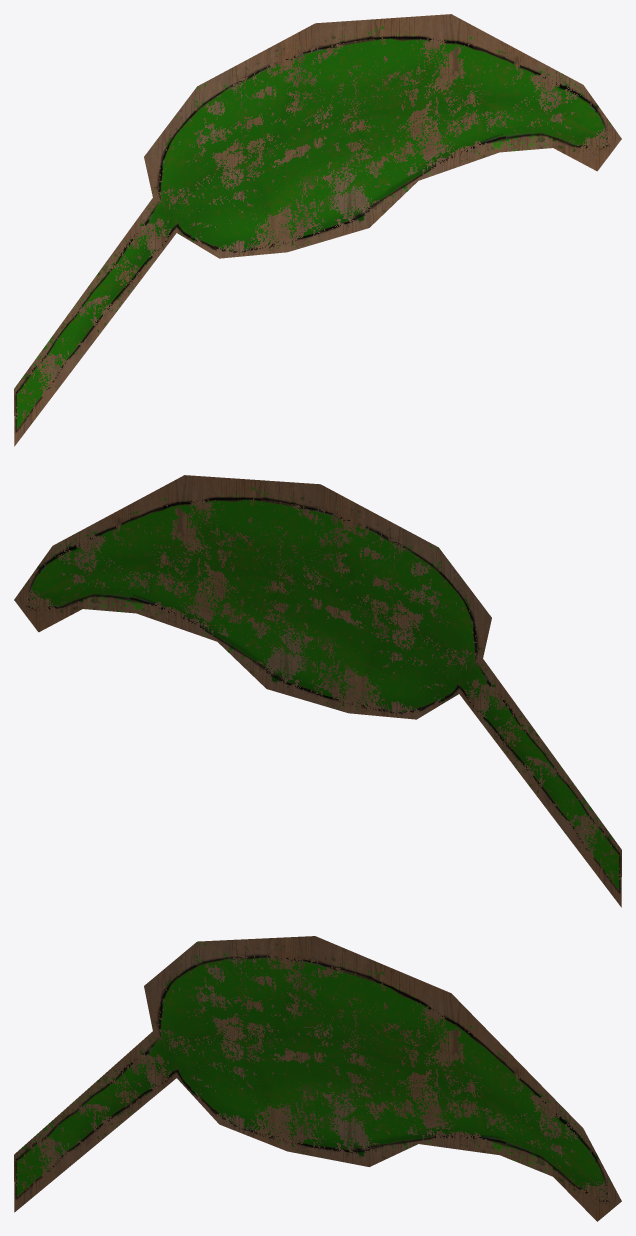
File: HojaGrande.fbx
3 views of the same model, one above another, from view 1: azimuth 30°, elevation 25°; view 2: azimuth 150°, elevation 25°; view 3: azimuth 330°, elevation 25° (orthographic).
Visible parts, largest first — view 1: Plane; view 2: Plane; view 3: Plane.
Boxes of the visible parts, <box> form: Plane: <box>14,14,621,446</box>; Plane: <box>14,475,621,907</box>; Plane: <box>14,936,621,1221</box>.
Size of the model in its own units: 359 by 198 by 8.65e-06.
Materials: 1 (1 with a texture image).
